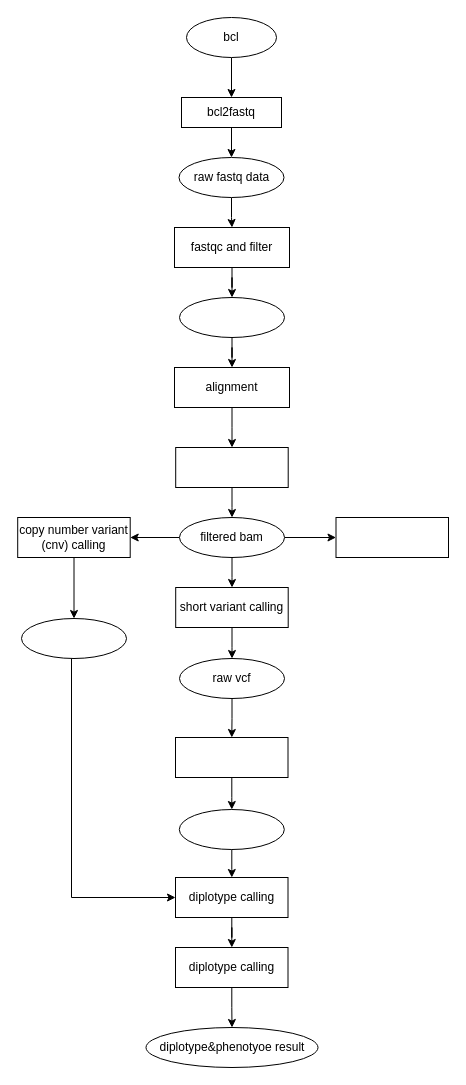
Image size: 466x1085. Some labels were removed from this diagram. The shapes that lost their labels are listed below. From the top down, each one's centre as x and y in pixels, then its label:
(x=231, y=317): clean fastq data
(x=231, y=467): BQSR
(x=391, y=537): bam stats
(x=73, y=638): cnv result
(x=231, y=757): filter vcf
(x=231, y=829): filtered vcf
